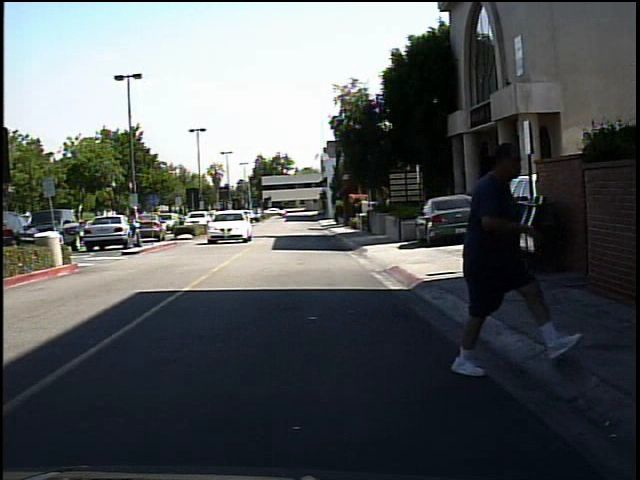person: (448, 127, 554, 381), (123, 203, 146, 252)
